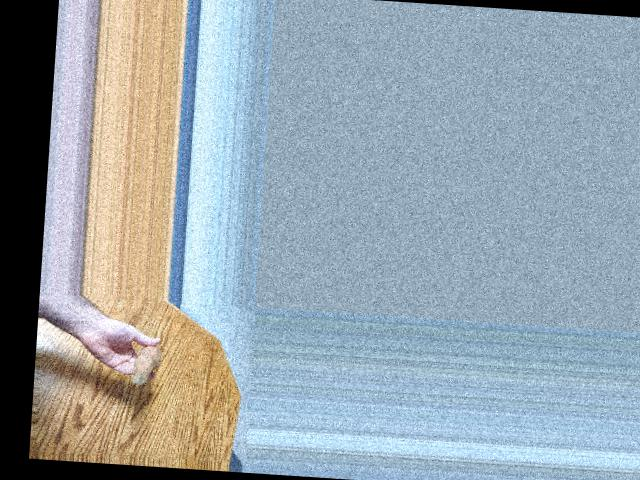sweet_potato: (128, 341, 157, 386)
